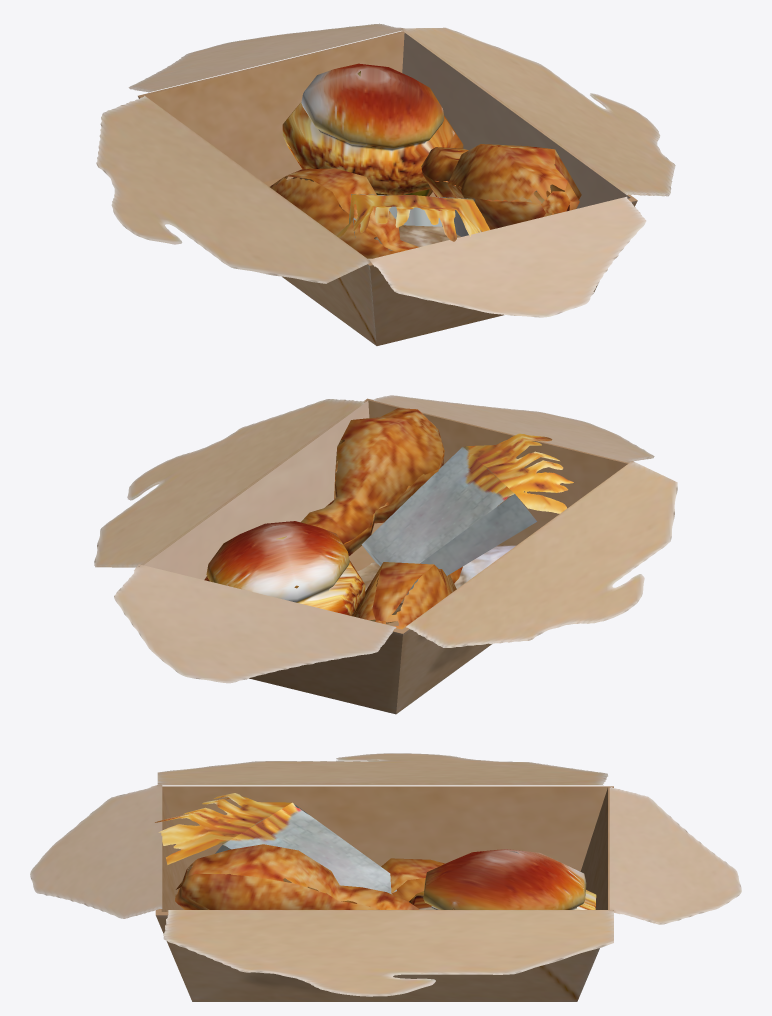
The model's file is combo_3.FBX.
3 views of the same model, one above another, from view 1: azimuth 30°, elevation 25°; view 2: azimuth 150°, elevation 25°; view 3: azimuth 270°, elevation 25° (orthographic).
Parts seen in each view (by area): view 1: takeaway_box, chicken_sandwich001, chicken_leg002, chicken_leg001, fries001, greasy_napkin001; view 2: takeaway_box, fries001, chicken_leg002, chicken_sandwich001, chicken_leg001, greasy_napkin001; view 3: takeaway_box, chicken_leg002, fries001, chicken_sandwich001, chicken_leg001.
Part boxes in pixels (bbox=[...]): takeaway_box: bbox=[96, 23, 675, 345]; chicken_sandwich001: bbox=[282, 63, 463, 196]; chicken_leg002: bbox=[421, 144, 581, 229]; chicken_leg001: bbox=[270, 168, 418, 258]; fries001: bbox=[336, 194, 490, 241]; greasy_napkin001: bbox=[368, 225, 460, 259]; takeaway_box: bbox=[94, 395, 677, 714]; fries001: bbox=[361, 433, 573, 591]; chicken_leg002: bbox=[301, 408, 444, 555]; chicken_sandwich001: bbox=[204, 521, 365, 616]; chicken_leg001: bbox=[354, 562, 462, 629]; greasy_napkin001: bbox=[357, 544, 515, 623]; takeaway_box: bbox=[30, 753, 741, 1001]; chicken_leg002: bbox=[175, 844, 419, 909]; fries001: bbox=[155, 793, 396, 894]; chicken_sandwich001: bbox=[409, 849, 596, 909]; chicken_leg001: bbox=[381, 858, 453, 909].
Size of the model in its own units: 38.24 by 11.4 by 48.71.
